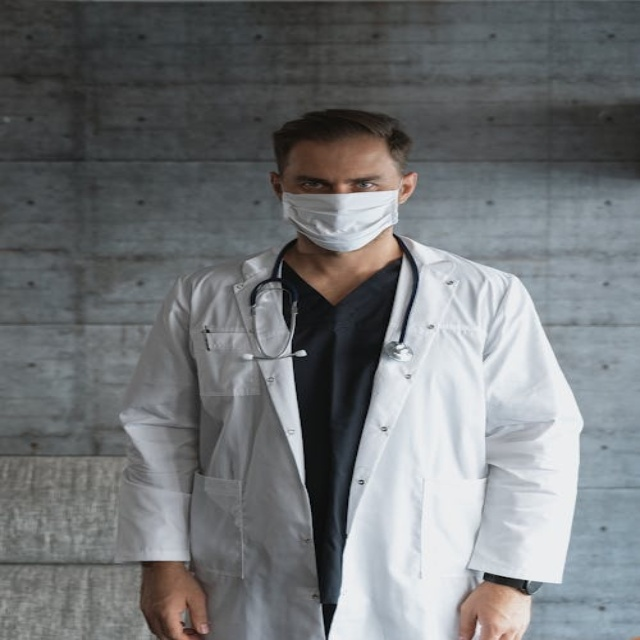Mascara: (281, 186, 400, 251)
Sin_gafas: (300, 180, 327, 189), (354, 181, 377, 189)
Sin_guantes: (132, 560, 216, 638), (453, 579, 536, 637)
